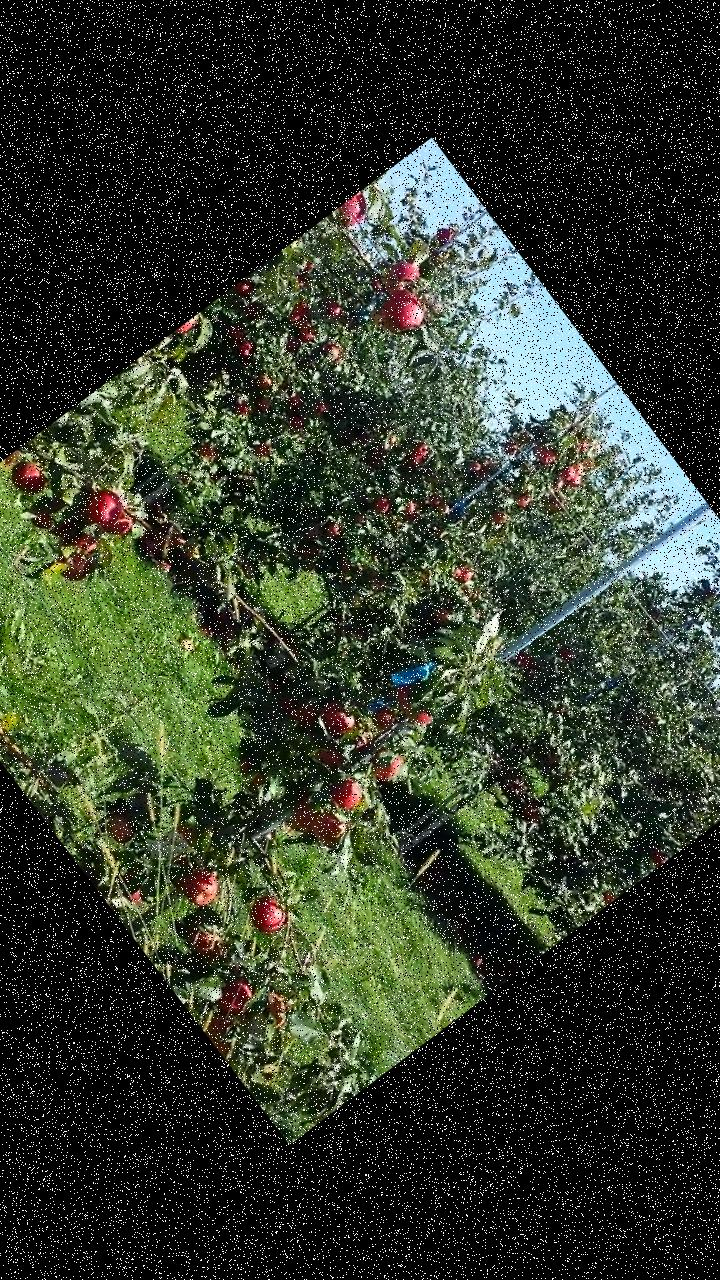Apple: (46, 520, 110, 584), (239, 881, 297, 939), (73, 478, 130, 534), (376, 281, 432, 337), (375, 250, 429, 304), (206, 968, 260, 1021), (176, 860, 228, 914), (176, 908, 228, 959), (362, 736, 412, 788), (302, 800, 352, 850), (3, 451, 52, 501), (196, 1002, 244, 1053), (42, 501, 89, 548), (255, 984, 300, 1032), (314, 696, 360, 742), (330, 189, 376, 233), (110, 863, 154, 908), (324, 769, 368, 813), (100, 804, 142, 850), (280, 794, 323, 836), (269, 684, 309, 724), (26, 496, 67, 534), (308, 736, 346, 776), (286, 690, 323, 728), (364, 698, 400, 734), (235, 752, 269, 788), (398, 700, 432, 734), (105, 509, 140, 541), (174, 818, 206, 853), (169, 312, 206, 342), (386, 680, 418, 711), (347, 728, 372, 750)
